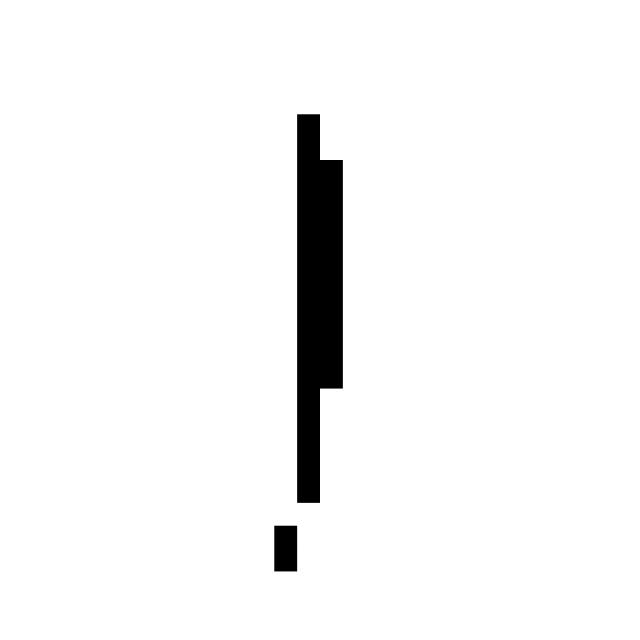1 -one-: (256, 89, 365, 598)
